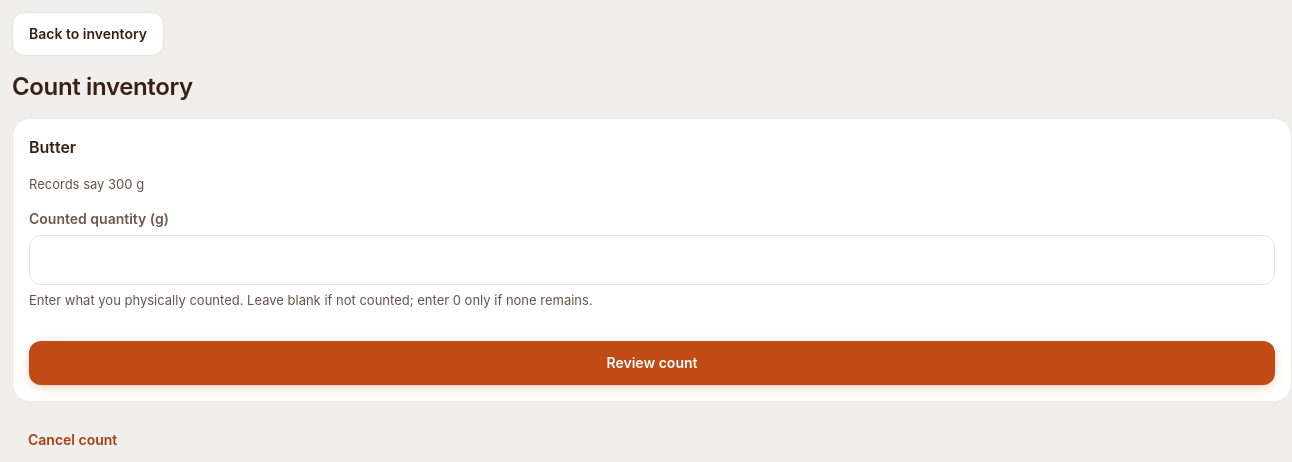
keeps entered values when changing the review and keeps a refused save on review
In the field labelled "Counted quantity (g)": (652, 260) left=30, top=236, right=1274, bottom=284, type "250"
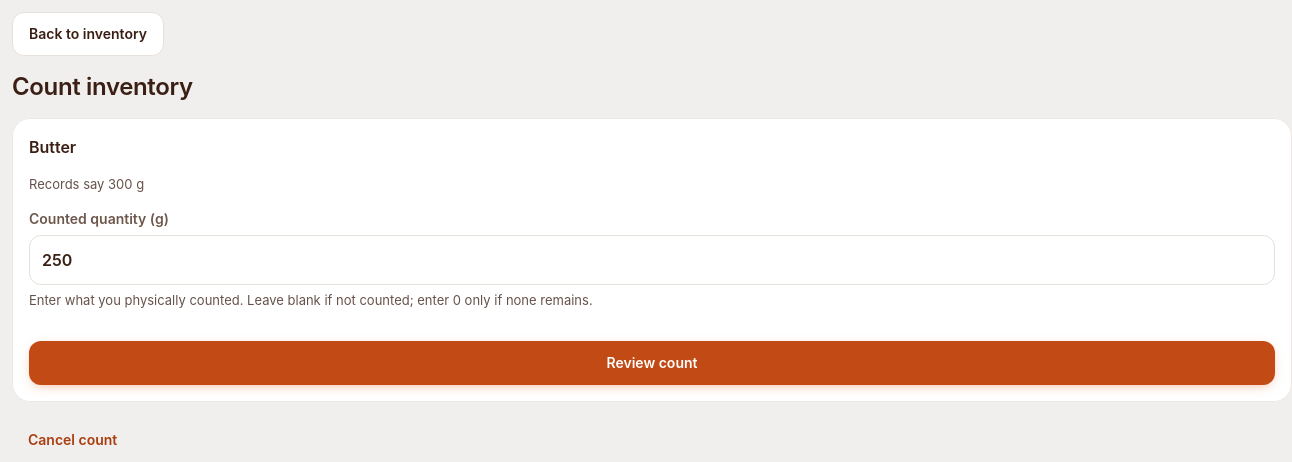
Click the button "Review count": (652, 363) left=29, top=341, right=1275, bottom=385
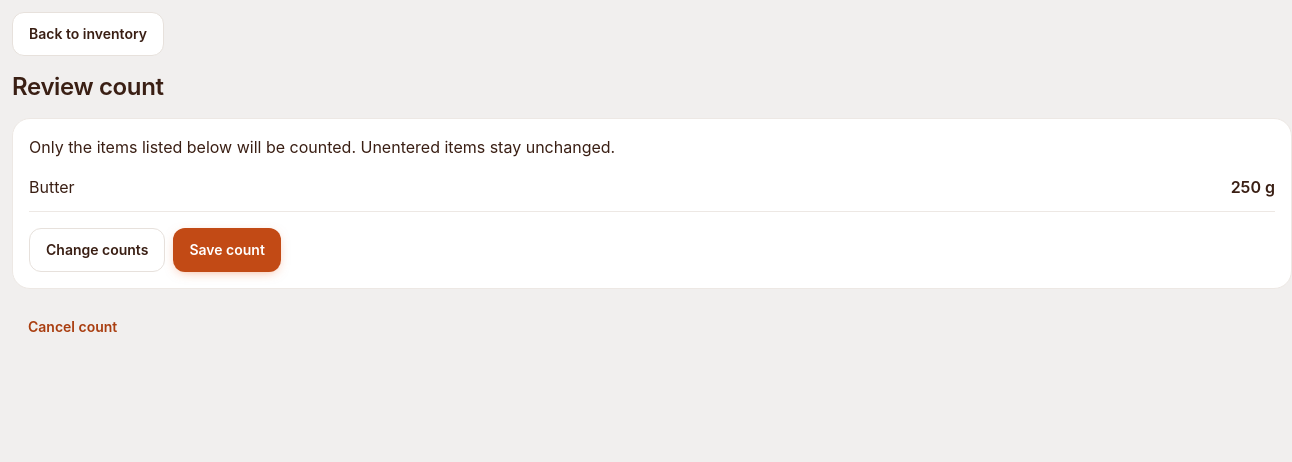
Click the button "Change counts": (97, 250) left=29, top=228, right=165, bottom=272
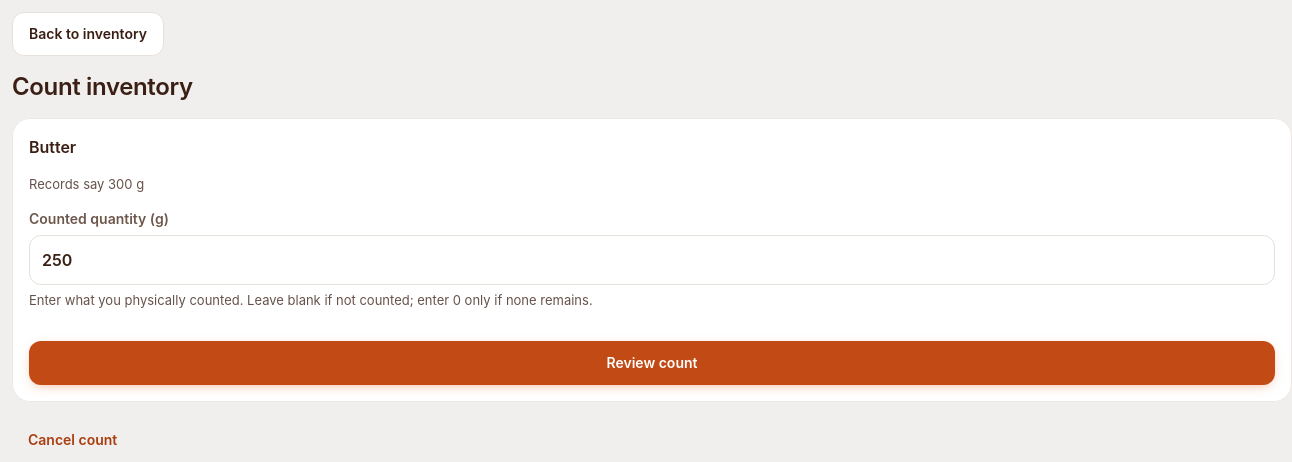
Result: the field labelled "Counted quantity (g)" holds "250" at left=30, top=236, right=1274, bottom=284
Click the button "Review count": (652, 363) left=29, top=341, right=1275, bottom=385
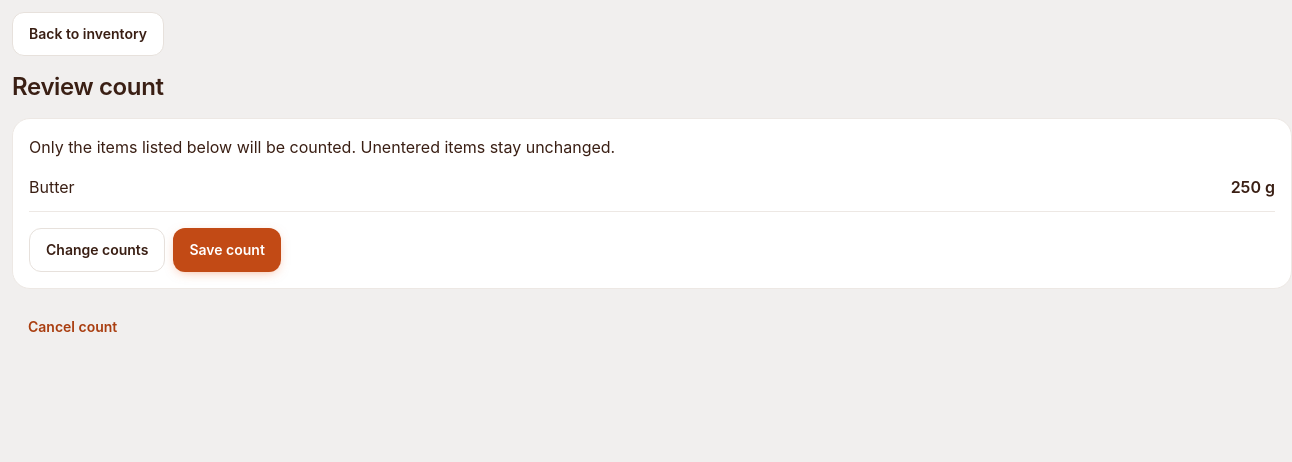
Click the button "Save count": (227, 250) left=173, top=228, right=281, bottom=272
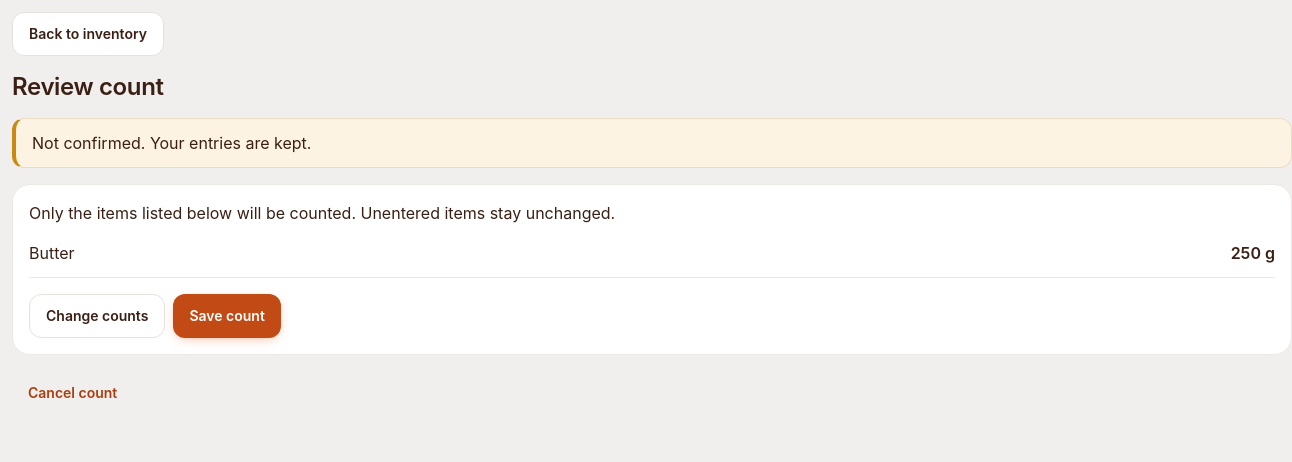
Result: the text "250 g" is shown at left=1231, top=241, right=1275, bottom=265
Result: the message shows "Not confirmed" at left=32, top=133, right=311, bottom=153
